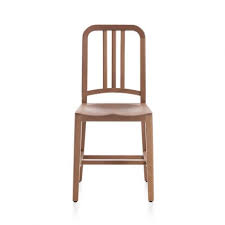tiyarina: (71, 22, 158, 208)
